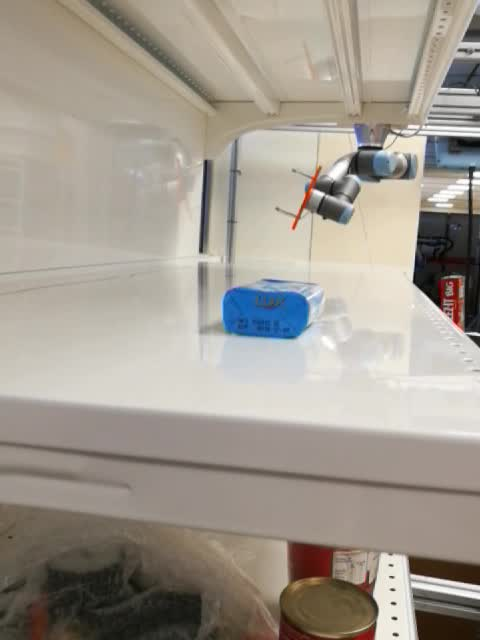soap: (221, 277, 327, 341)
